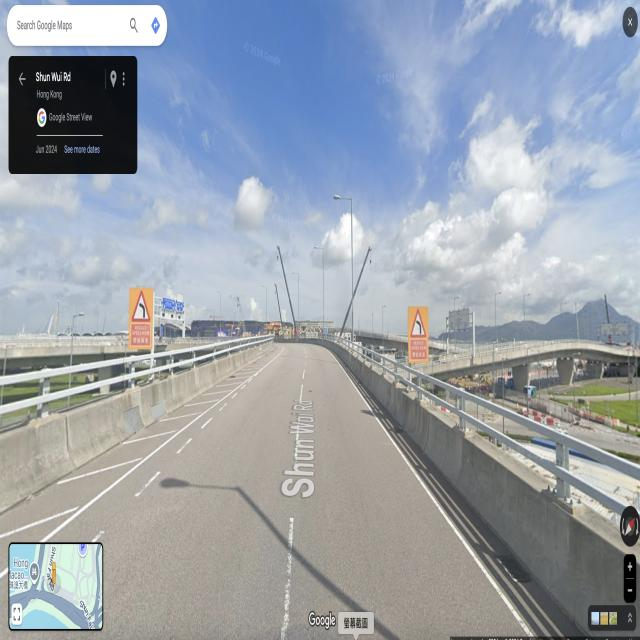Direction-Sign: (163, 298, 175, 310), (178, 302, 183, 311)
Warning-Sign: (131, 290, 151, 321), (410, 308, 427, 337), (131, 323, 151, 346), (410, 339, 427, 359)
